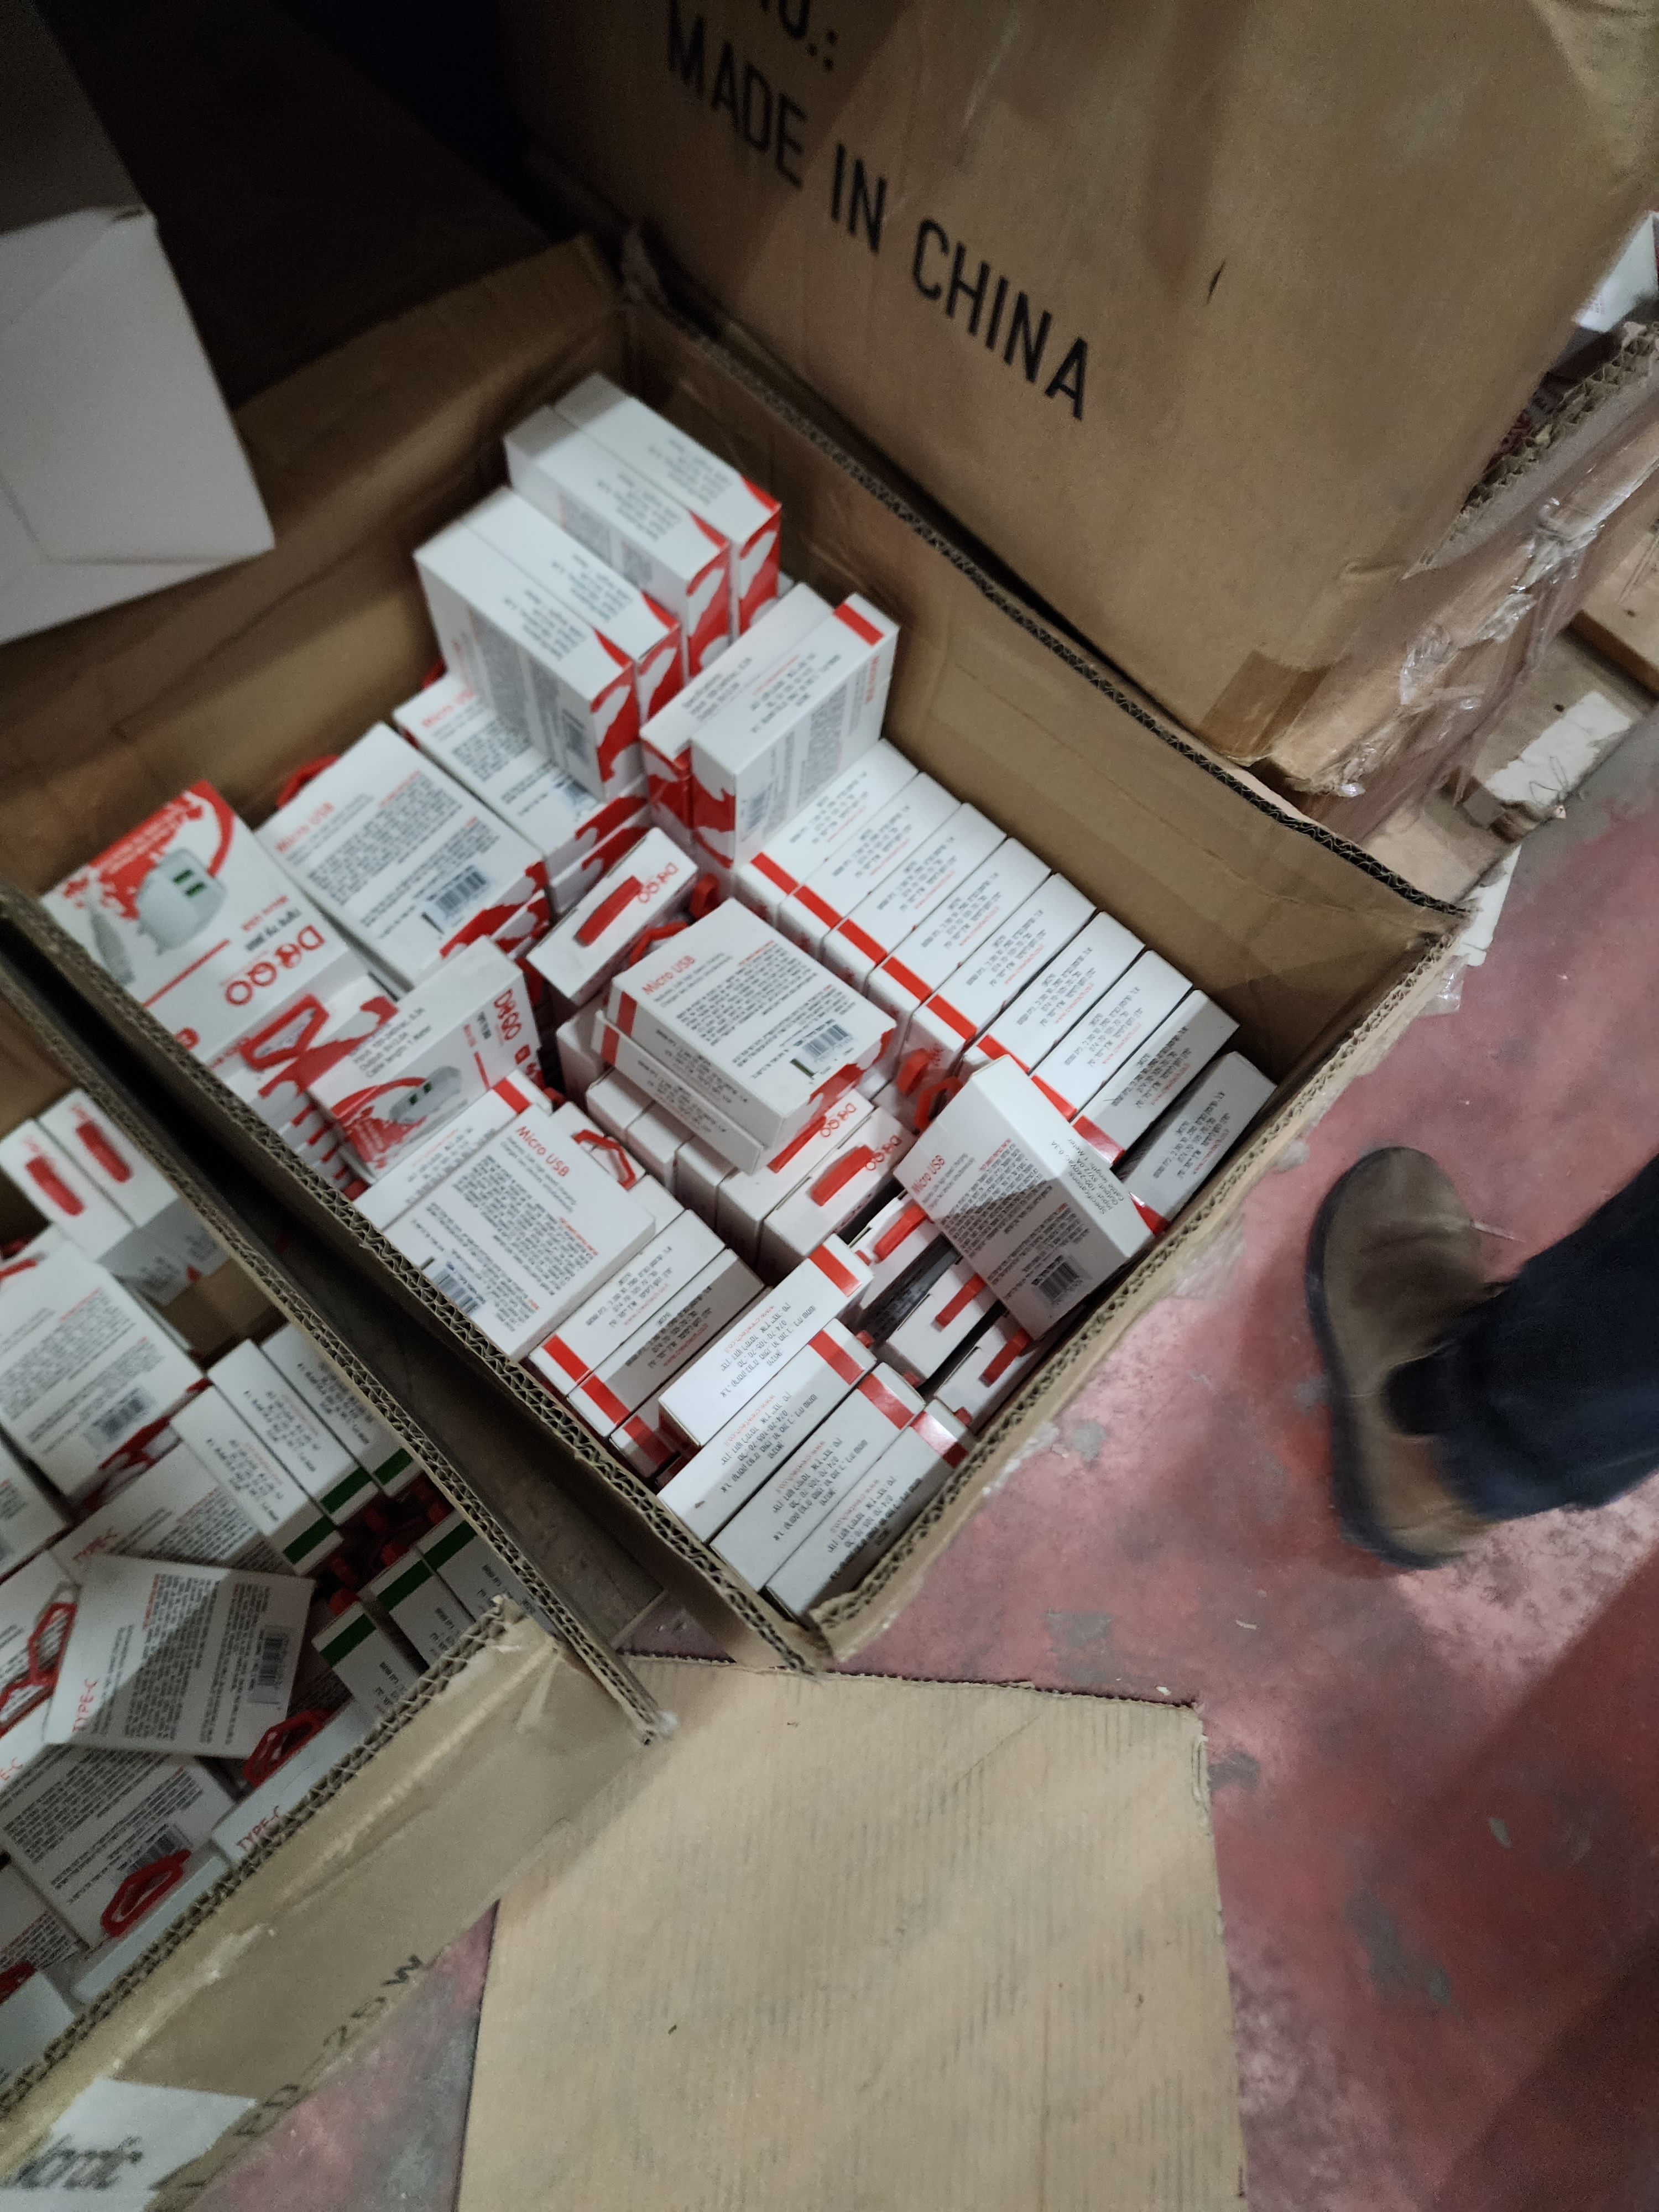box: (24, 338, 1469, 1613)
